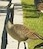goose: (2, 2, 41, 49)
